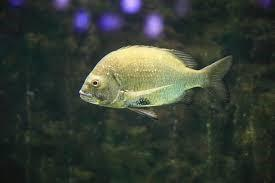Tilapia: (77, 43, 236, 117)
